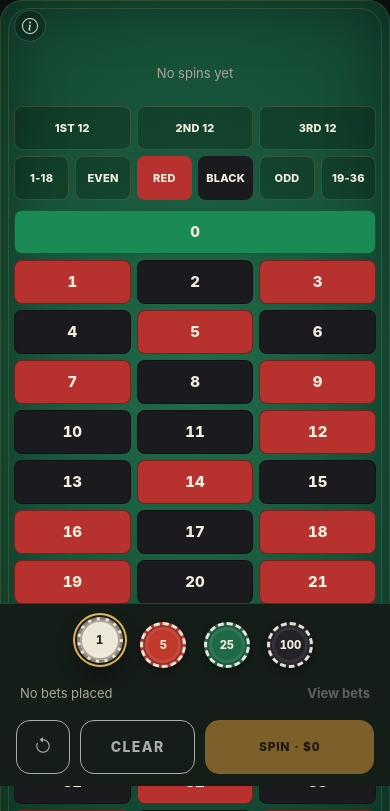
Test: RouletteView › disables Spin with no bets and enables it once a bet is placed
expect the button with class "cta-btn--spin" is disabled: met, box [205,720,374,774]
Click the button "25". click: (227, 646)
box: [204,622,250,668]
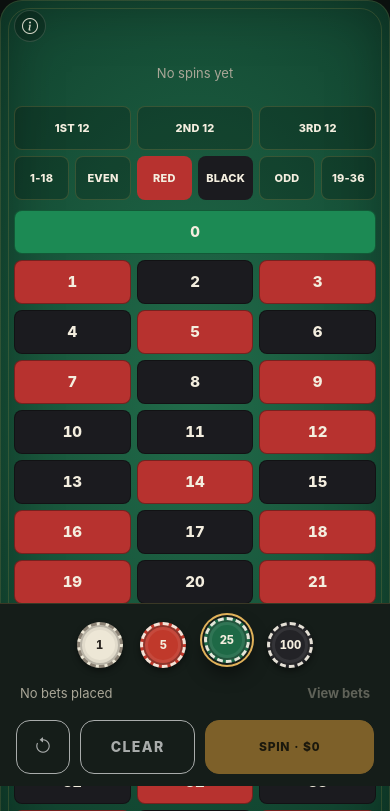
Click the button "3". click: (318, 282)
box: [259,260,376,304]
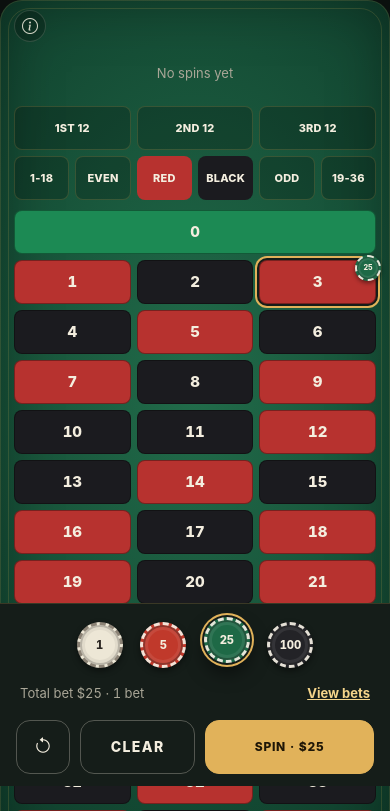
expect the button with class "cta-btn--spin" is enabled: met, box [205,720,374,774]
